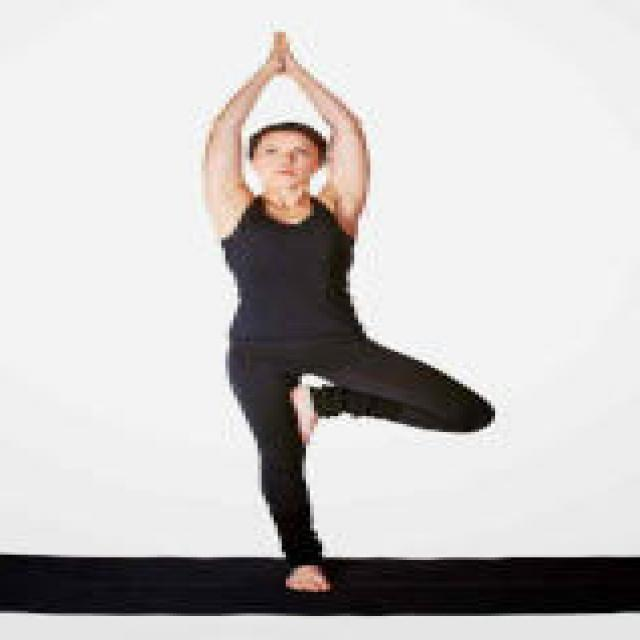yoga-pose tree: (199, 31, 492, 594)
